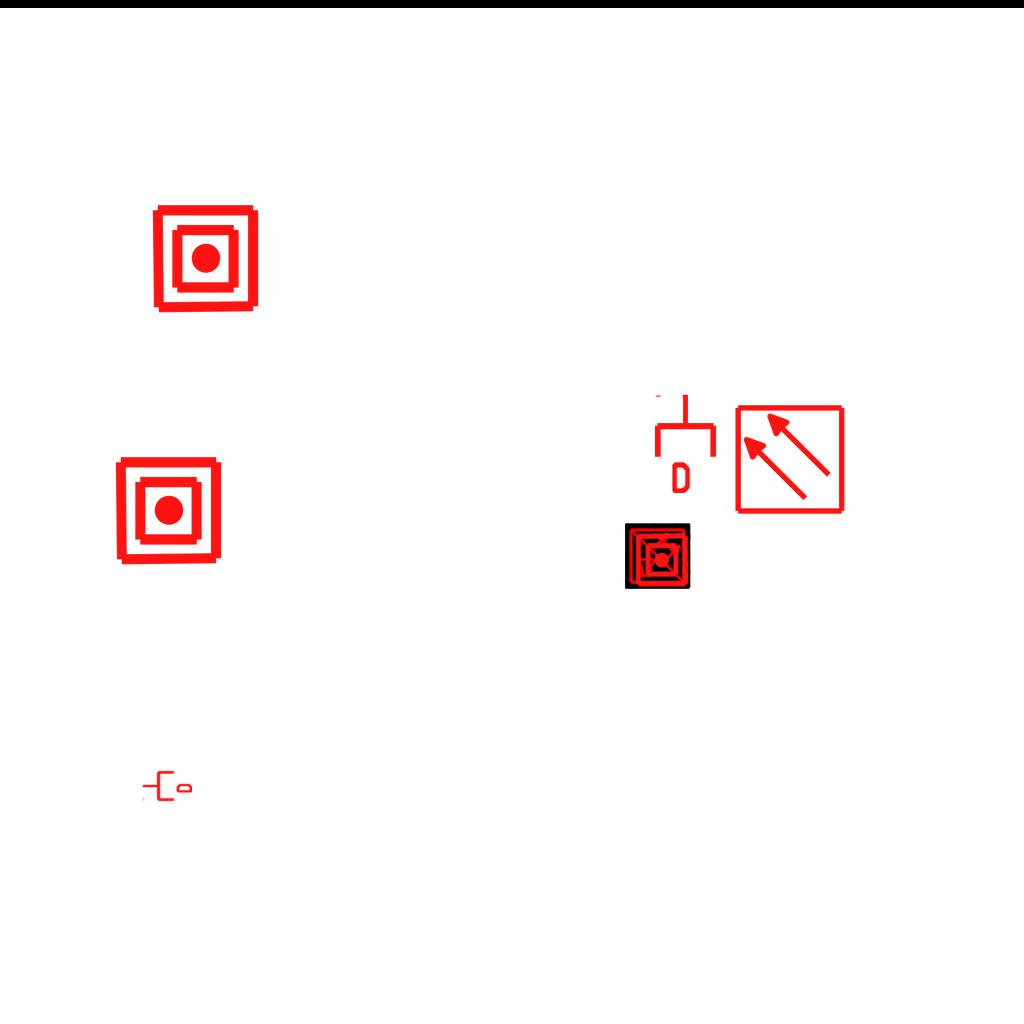Datenanschluss_einfach: (651, 393, 720, 493), (142, 769, 192, 803)
NAM-Nichtautomatischer_Melder: (112, 454, 225, 567), (149, 202, 262, 315), (634, 532, 690, 588)
OKW_Multisensormelder_(Kombination_optischer_Rauch-Kahlenmonoxid_Waerme-Melder): (625, 523, 691, 589)
RMO_Rauchmelder_optischer: (733, 403, 846, 516)
